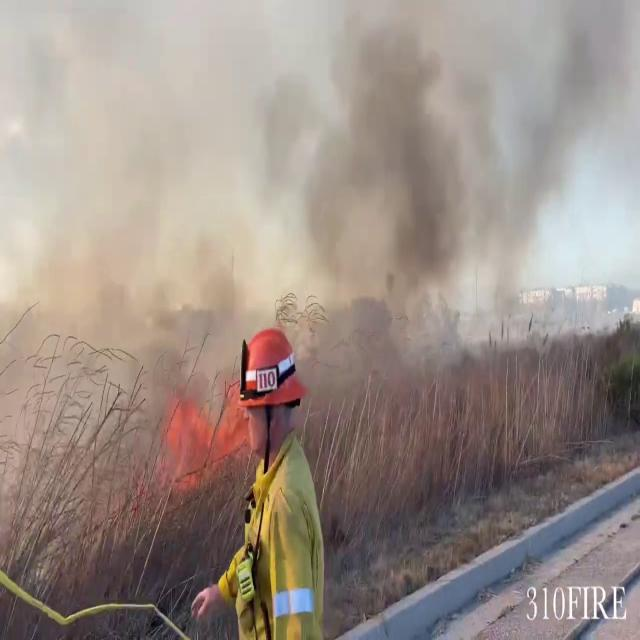Fire: (172, 380, 261, 490)
Smoke: (13, 0, 640, 387)
